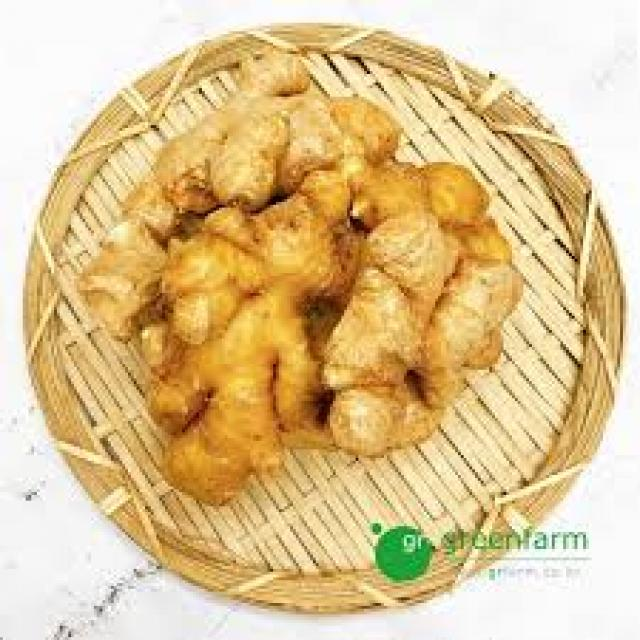ginger: (67, 103, 531, 489)
